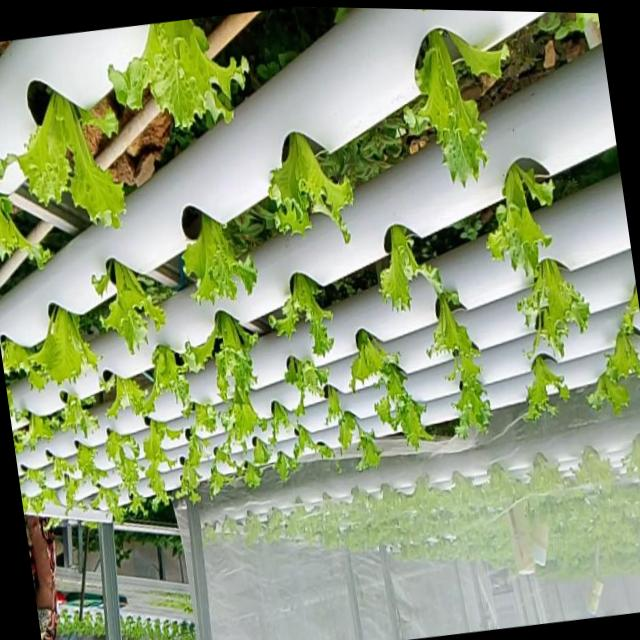Baby: (0, 97, 125, 230), (110, 21, 248, 132), (402, 31, 483, 186), (424, 282, 487, 434), (267, 132, 351, 242), (482, 161, 547, 273), (181, 206, 255, 302), (513, 257, 584, 354), (97, 258, 164, 352), (31, 306, 101, 388), (376, 223, 439, 309), (267, 271, 331, 354), (372, 361, 429, 446), (133, 341, 195, 414), (103, 428, 143, 510), (274, 353, 326, 413), (598, 307, 640, 381), (217, 383, 265, 446), (520, 351, 564, 417), (347, 327, 395, 387), (74, 443, 103, 484), (88, 486, 121, 521), (211, 440, 234, 472), (192, 402, 215, 431), (61, 474, 77, 512)
